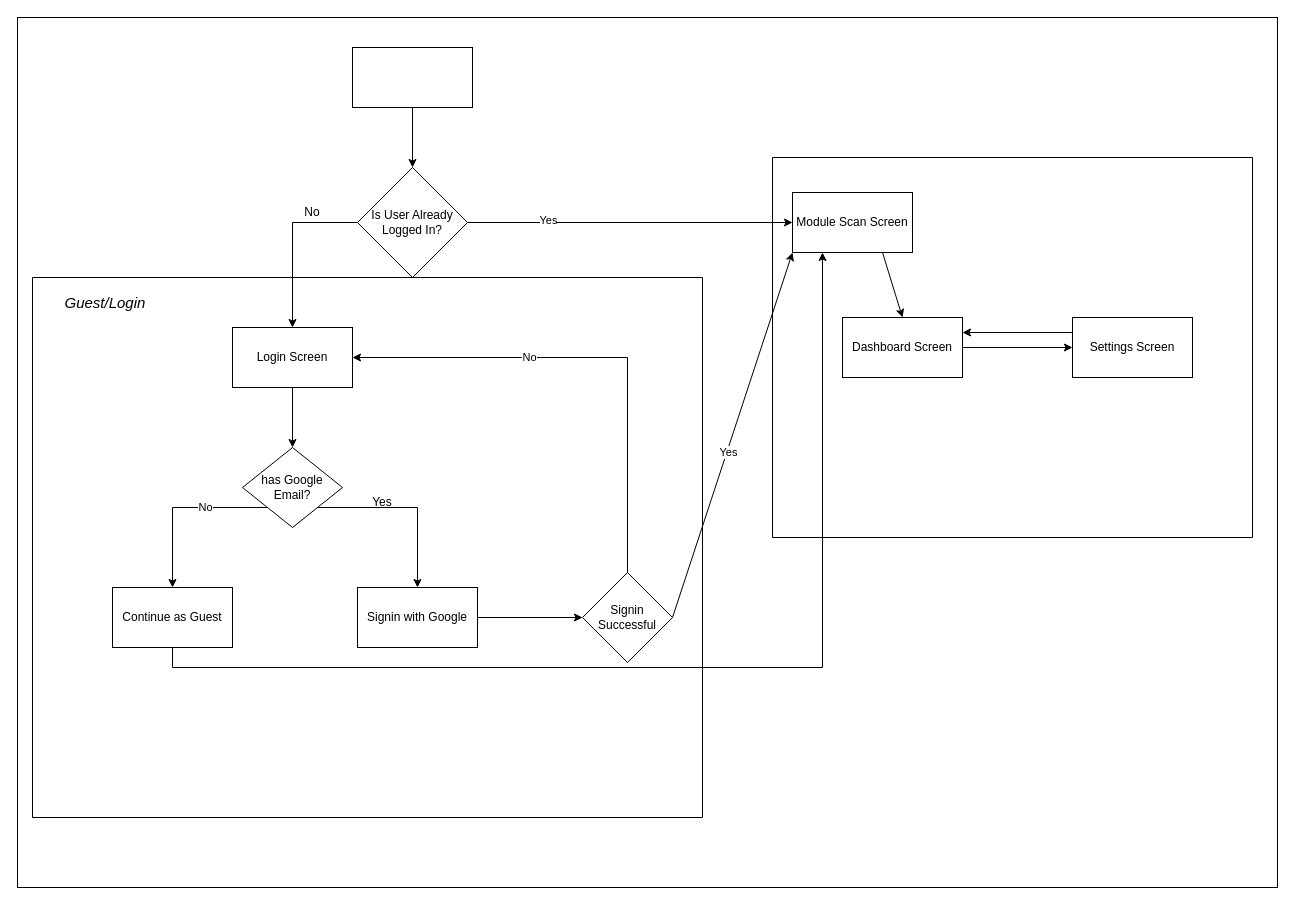
The diagram is 1295 pixels wide and 905 high, and some of its shapes have lost their labels. The box of each missing label's shape, as (x1, y1, x2, y2) in pixels:
Core Application: (772, 156, 1252, 538)
Start: (352, 46, 472, 108)
